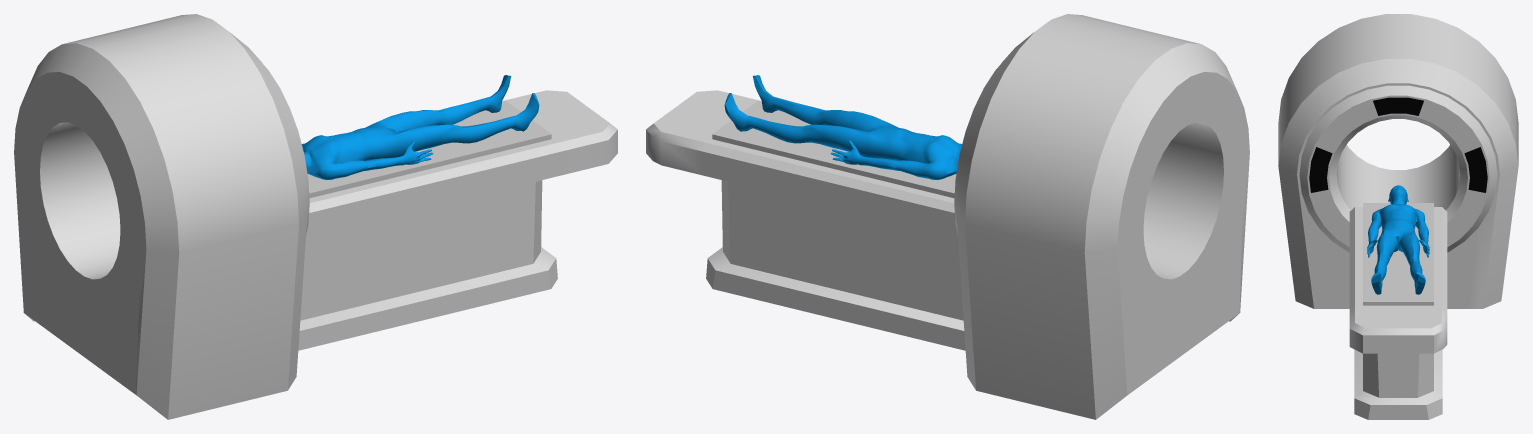
The picture shows the model from 3 angles, left to right: view 1: azimuth 30°, elevation 25°; view 2: azimuth 150°, elevation 25°; view 3: azimuth 270°, elevation 25°; orthographic projection. The views are drawn at different scales.
Parts seen in each view (by area): view 1: MRI_Room; view 2: MRI_Room; view 3: MRI_Room.
Part boxes in pixels (x1,y1,x2,y2): MRI_Room: (14,14,617,419); MRI_Room: (646,14,1249,419); MRI_Room: (1278,14,1518,419).
Size of the model in its own units: 3.4 by 1.99 by 1.79.
